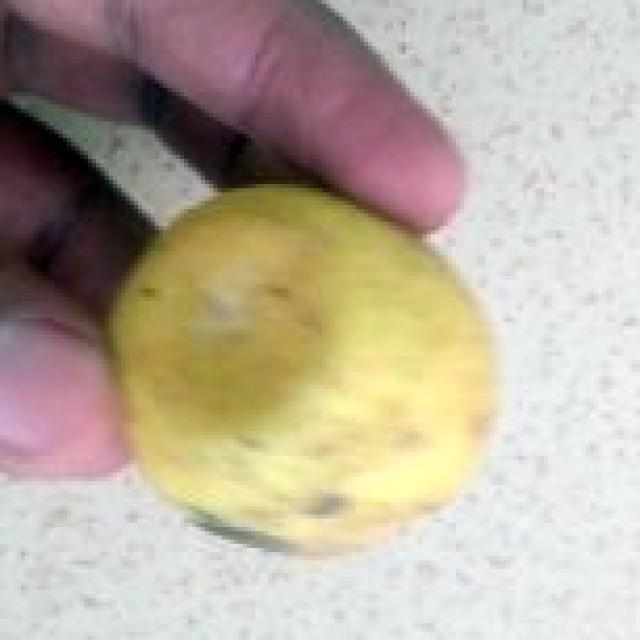Bad_Lime-0-1-day: (105, 184, 510, 561)
